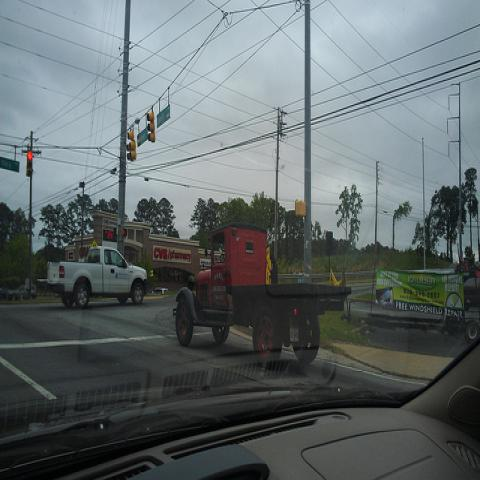car: (9, 284, 36, 302), (152, 286, 168, 294)
truck: (173, 226, 349, 369), (46, 241, 148, 308)
